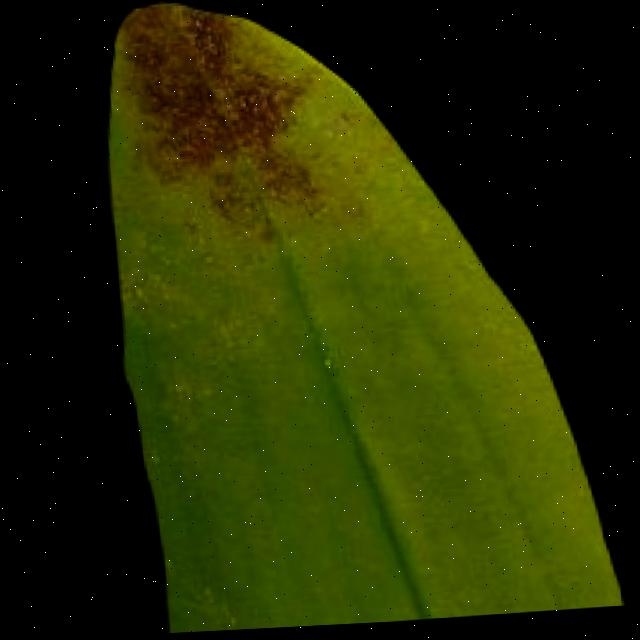mite: (136, 49, 285, 167), (198, 141, 323, 250), (249, 146, 321, 220)
sunburn: (111, 0, 328, 254)
